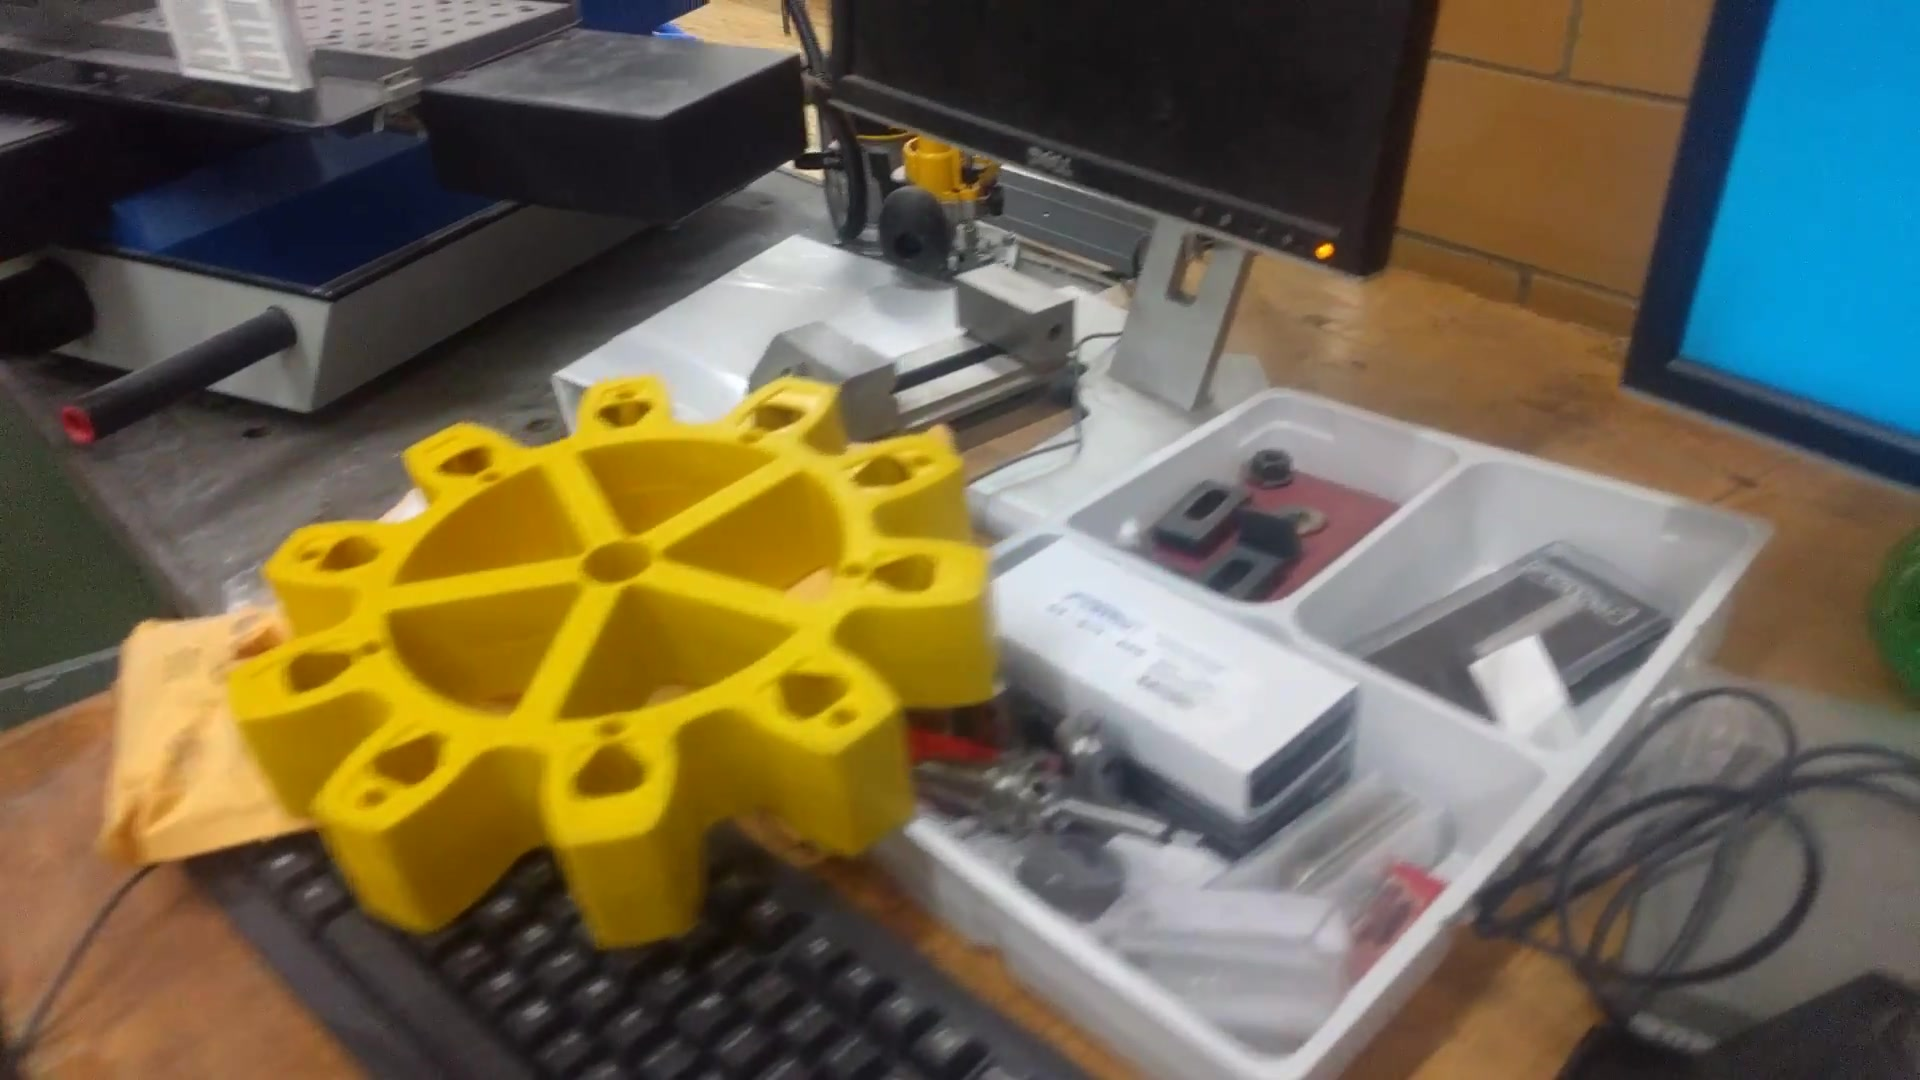gear: (214, 347, 1075, 972)
